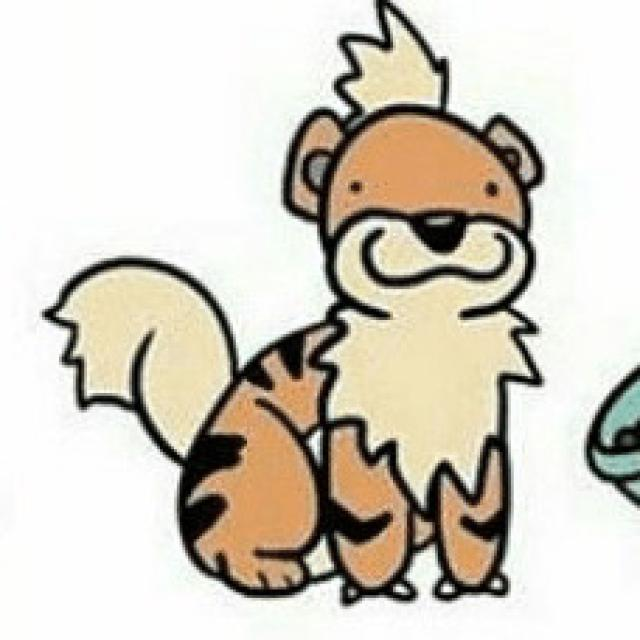Growlithe: (168, 50, 542, 604)
